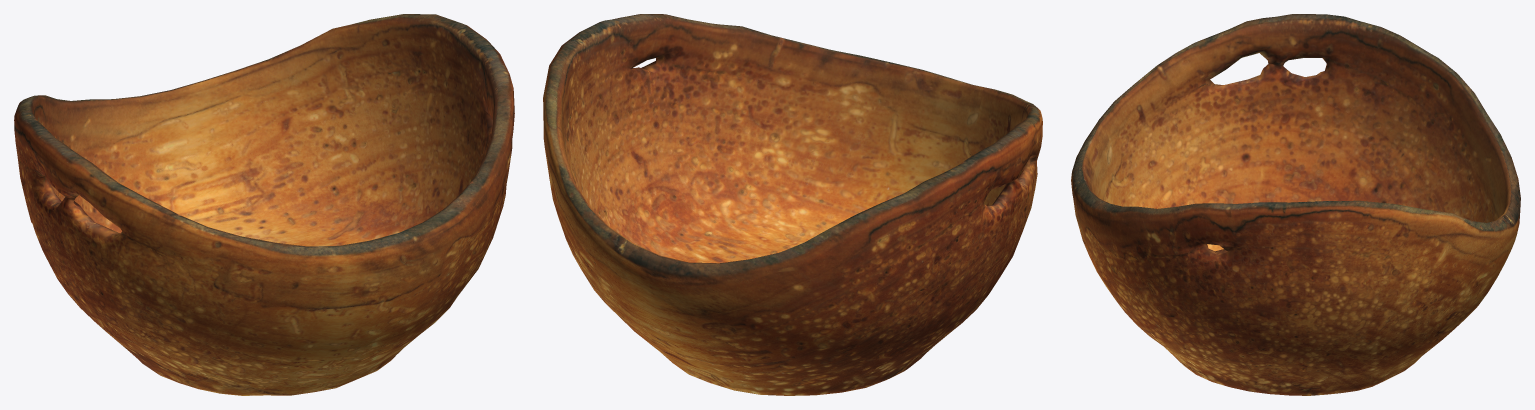
Rendered from wooden_bowl_02.glb.
The picture shows the model from 3 angles, left to right: view 1: azimuth 30°, elevation 25°; view 2: azimuth 150°, elevation 25°; view 3: azimuth 270°, elevation 25°; orthographic projection. The views are drawn at different scales.
Parts seen in each view (by area): view 1: wooden_bowl_02; view 2: wooden_bowl_02; view 3: wooden_bowl_02.
Part boxes in pixels (x1,y1,x2,y2): wooden_bowl_02: [14, 14, 514, 395]; wooden_bowl_02: [543, 14, 1042, 395]; wooden_bowl_02: [1071, 14, 1520, 395].
Size of the model in its own units: 0.1307 by 0.0731 by 0.1245.
1 material, 1 textured.
